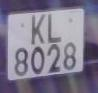0: (30, 44, 47, 78)
2: (46, 42, 64, 77)
8: (13, 44, 31, 80), (62, 39, 79, 76)
K: (29, 11, 47, 49)
L: (46, 11, 66, 45)
